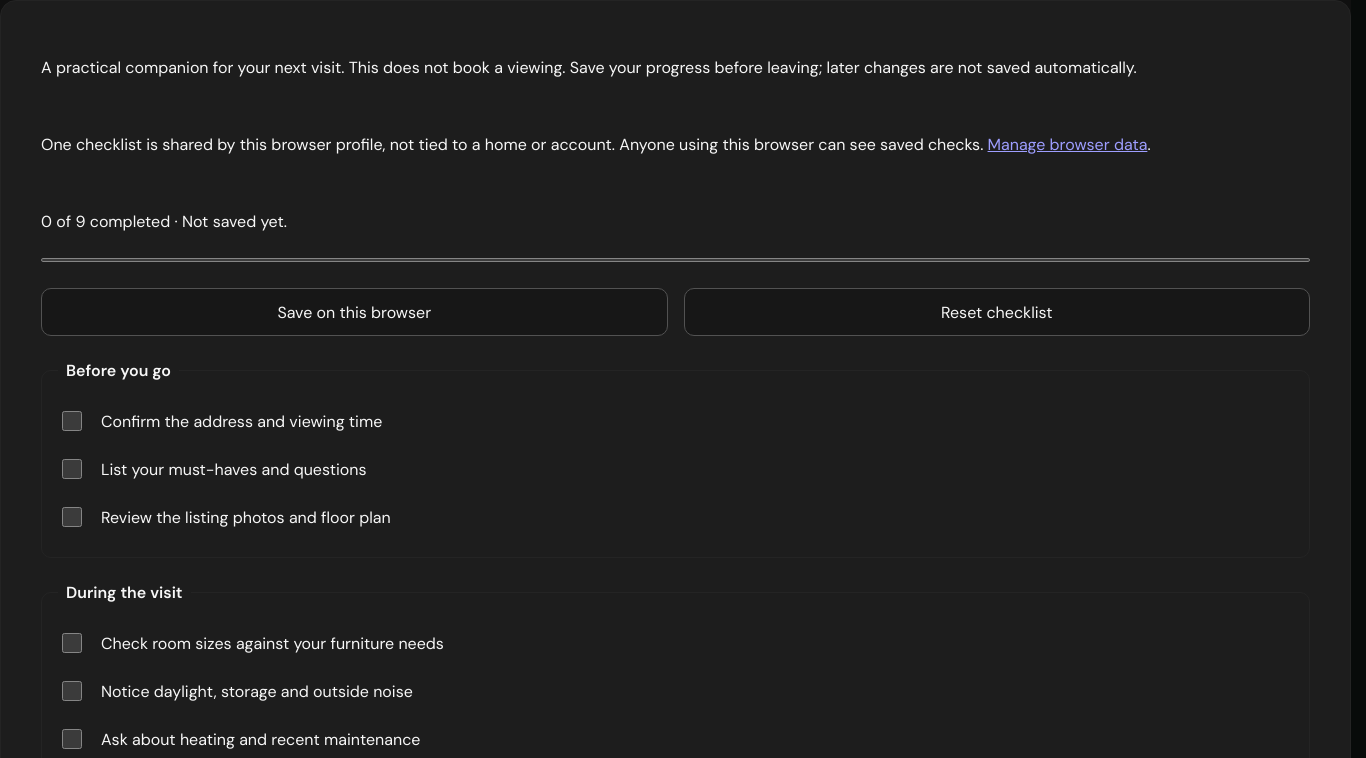
Test case: retains checks and offers retry when saving fails
Click the checkbox labelled "Confirm the address and viewing time" at [72, 421], box [62,411,82,431]
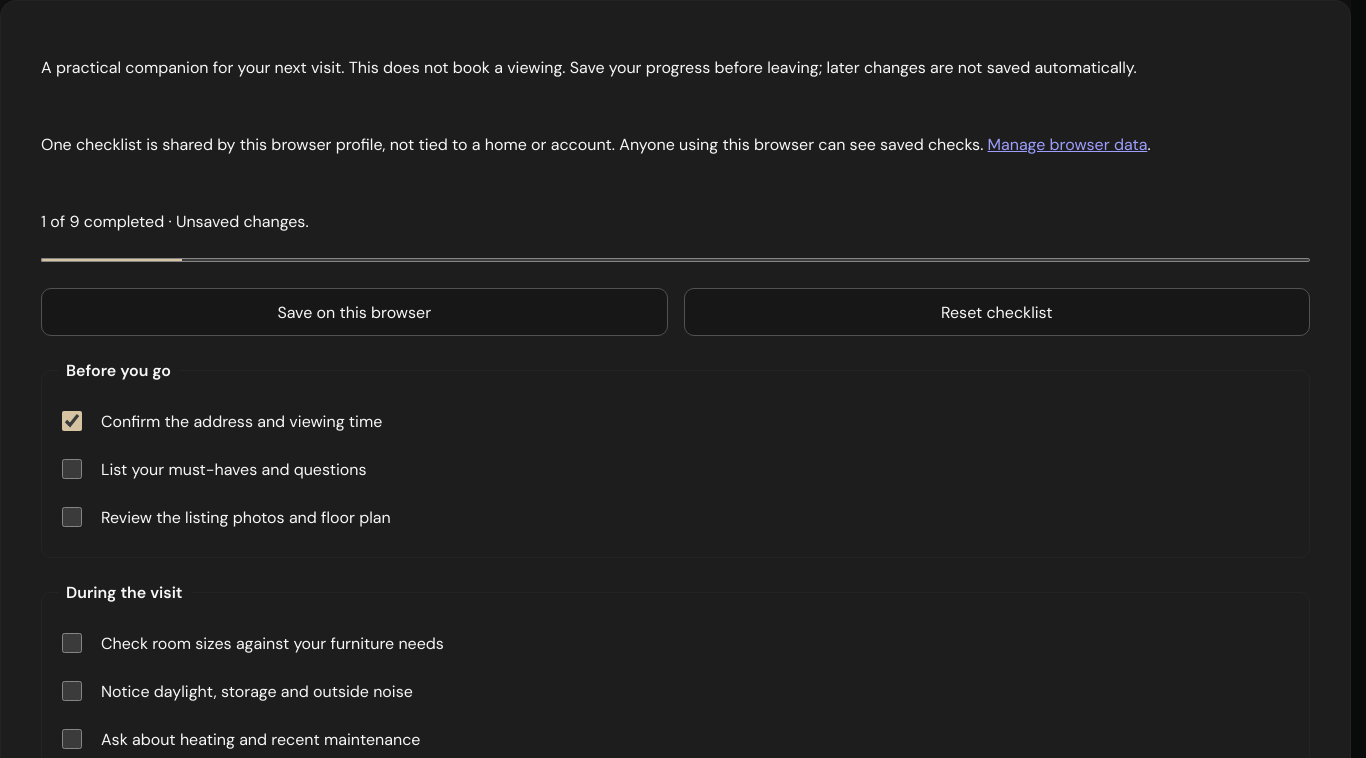
Click the button "Save on this browser" at [354, 312], box [41,288,668,336]
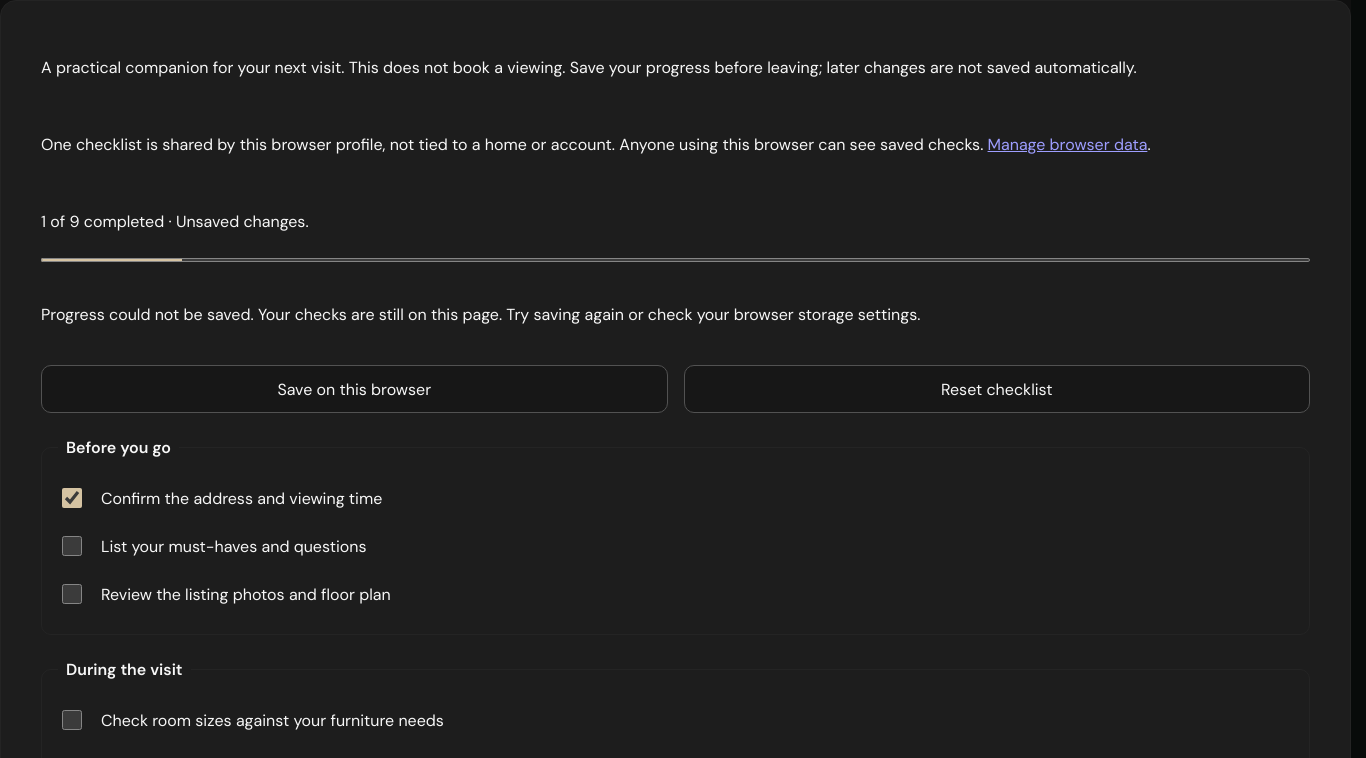
Check: the checkbox labelled "Confirm the address and viewing time" is checked, box [62,488,82,508]
Check: the 2nd message shows "could not be saved", box [41,304,920,325]
Click the button "Save on this browser" at [354, 389], box [41,365,668,413]
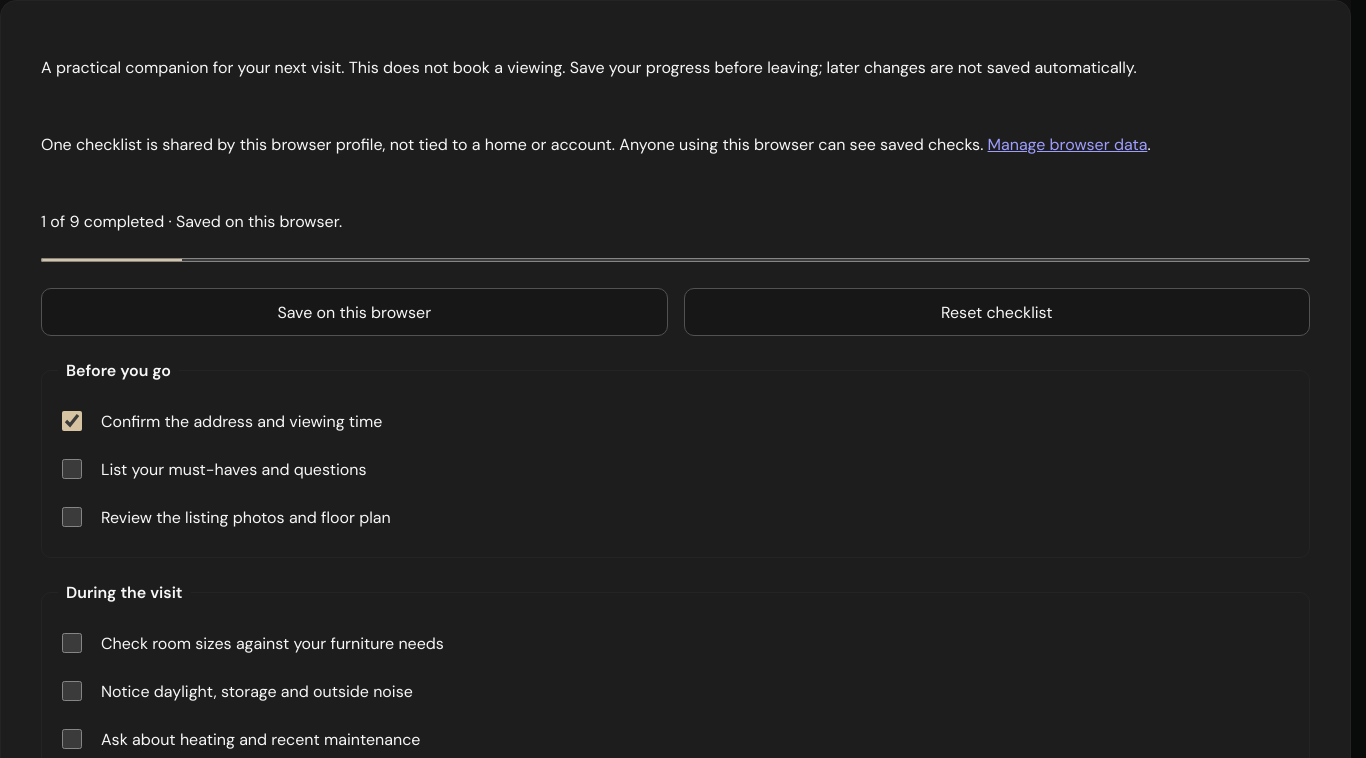
Check: the message shows "Saved on this browser", box [176,211,342,232]
